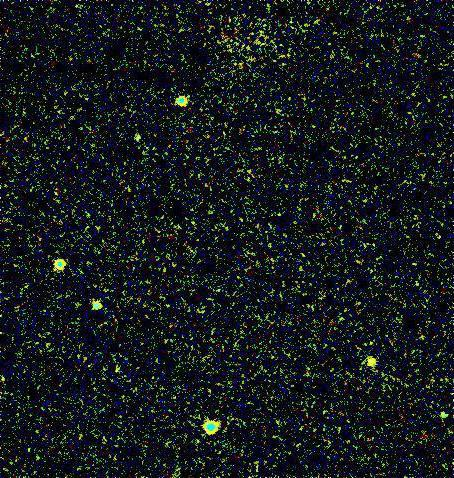star: (362, 346, 392, 376)
